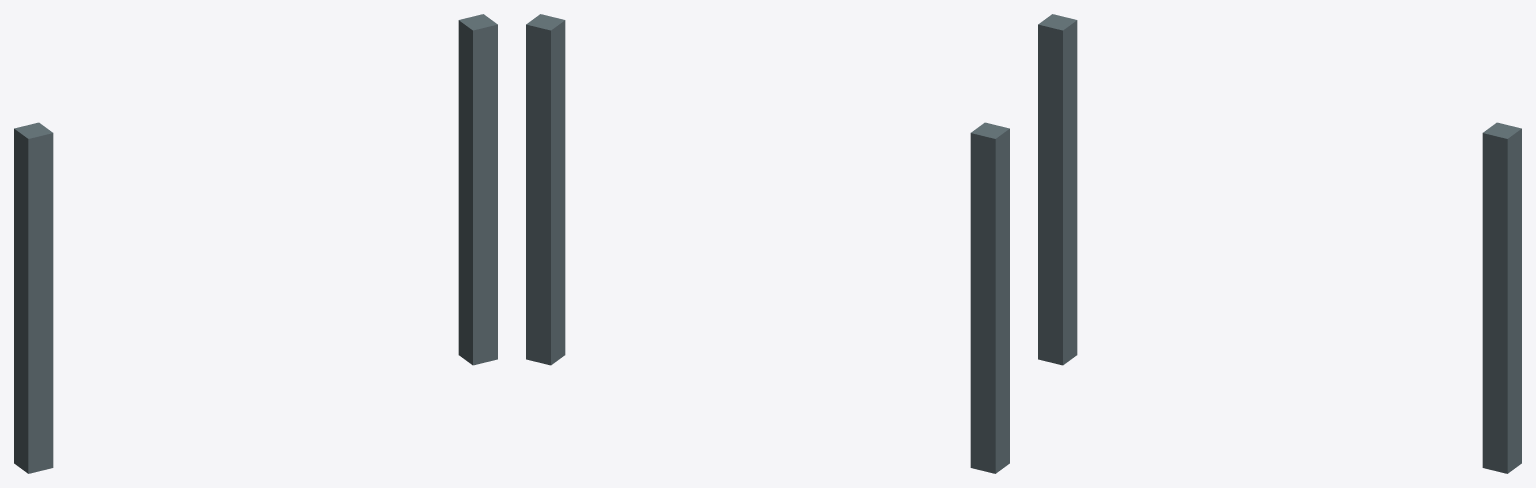
The model's file is sign-post.glb.
3 renders of one model, left to right at view 1: azimuth 30°, elevation 25°; view 2: azimuth 150°, elevation 25°; view 3: azimuth 330°, elevation 25°, orthographic.
Size of the model in its own units: 1.32 by 0.9 by 0.07.
